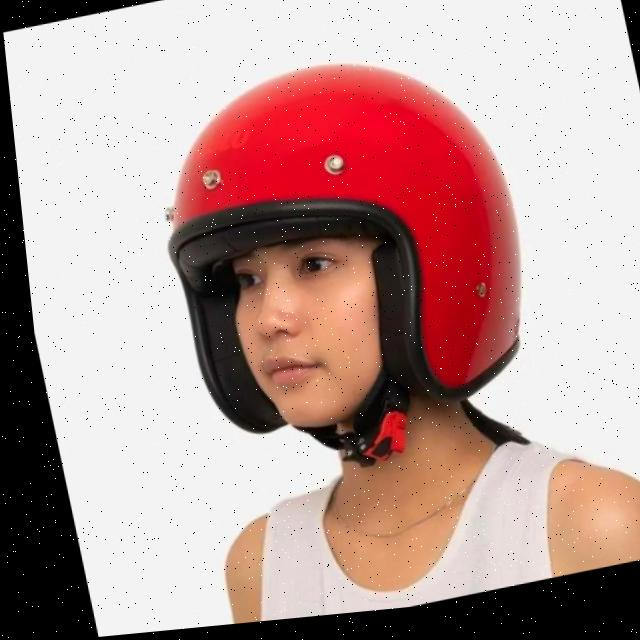helmet: (124, 28, 566, 510)
